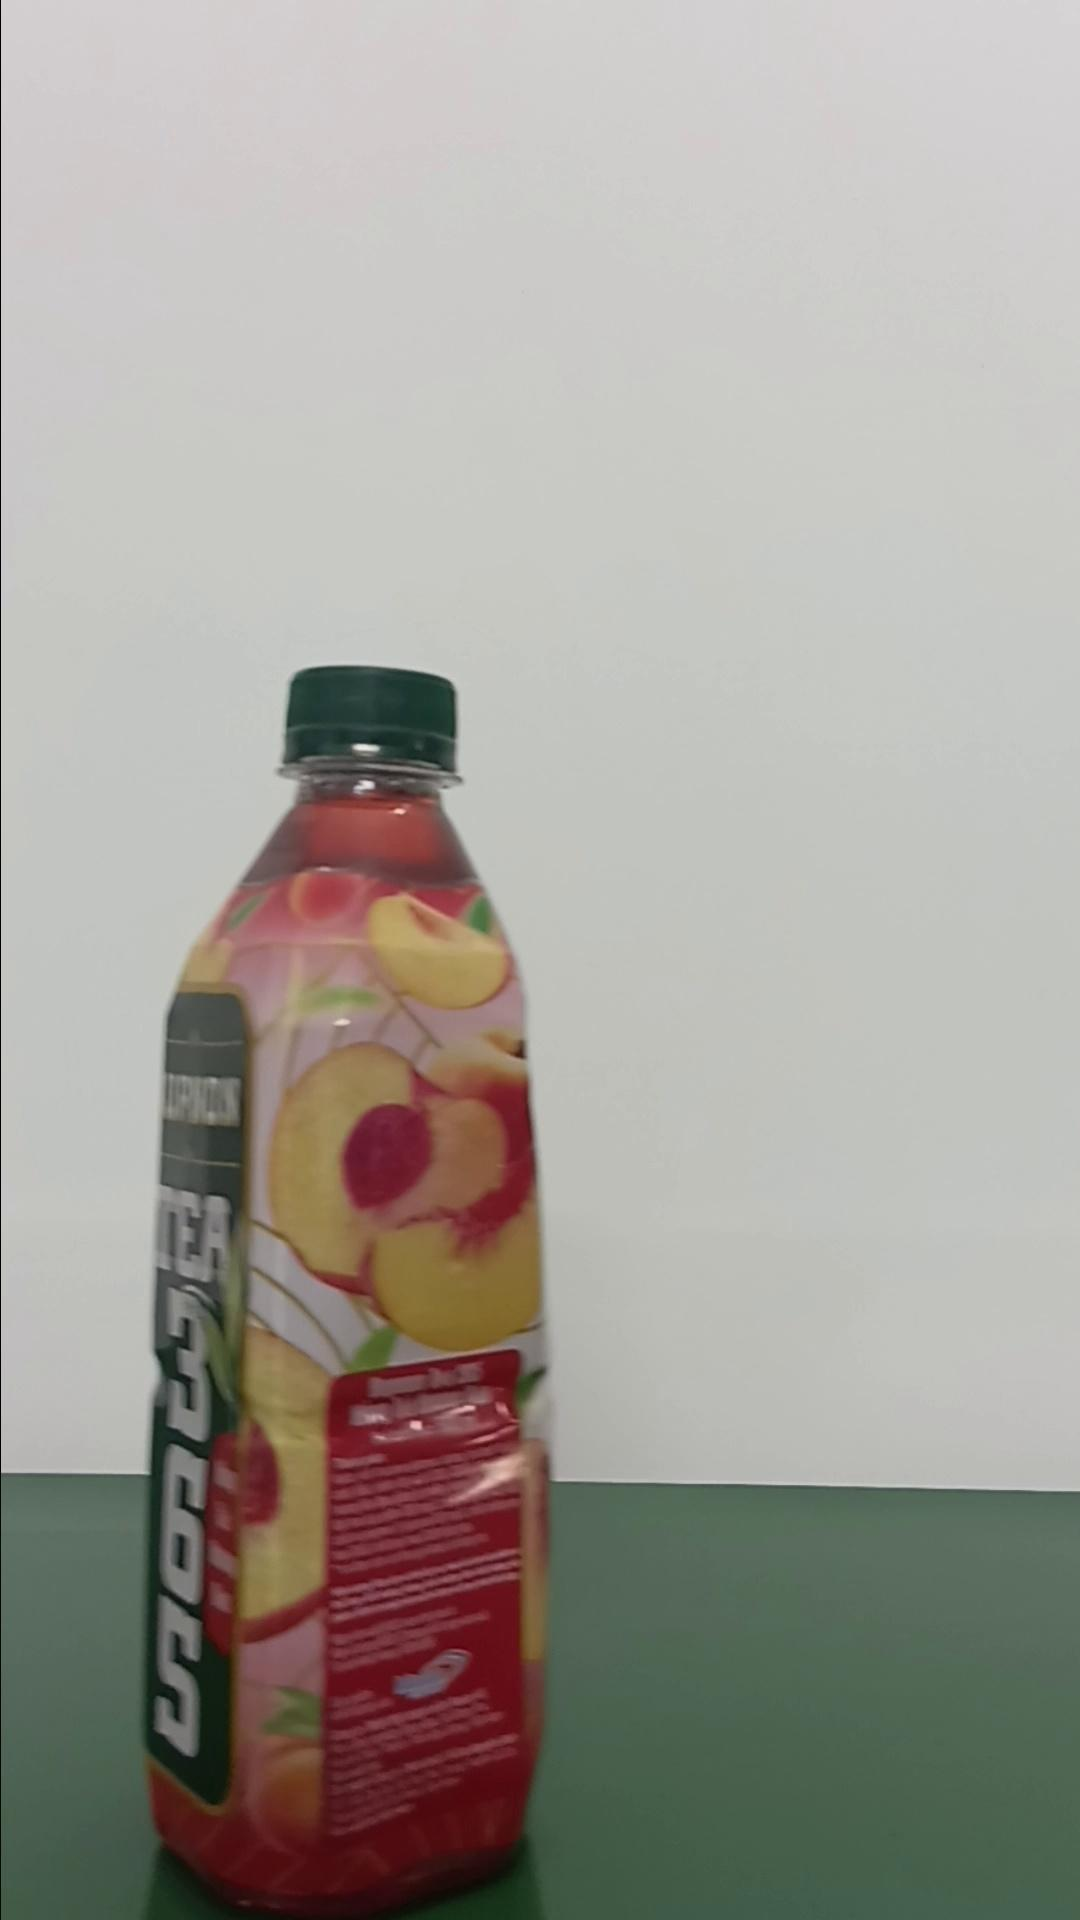loi meo sp: (140, 661, 556, 1912)
